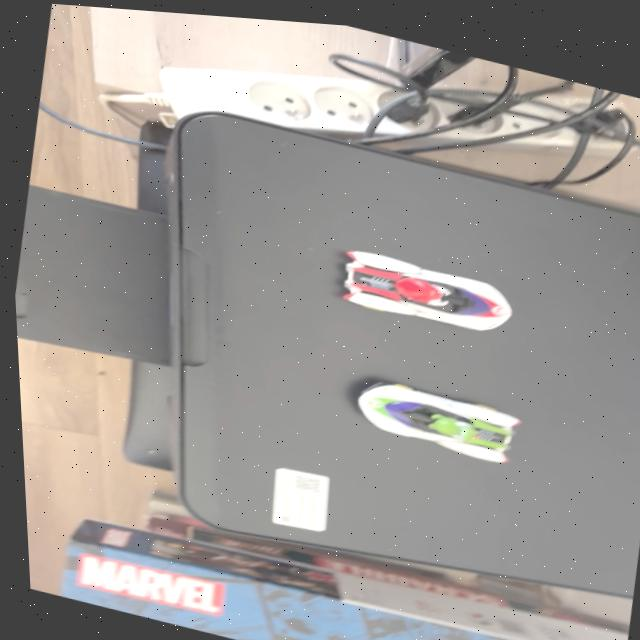mario: (318, 233, 530, 350)
yoshi: (334, 358, 538, 471)
